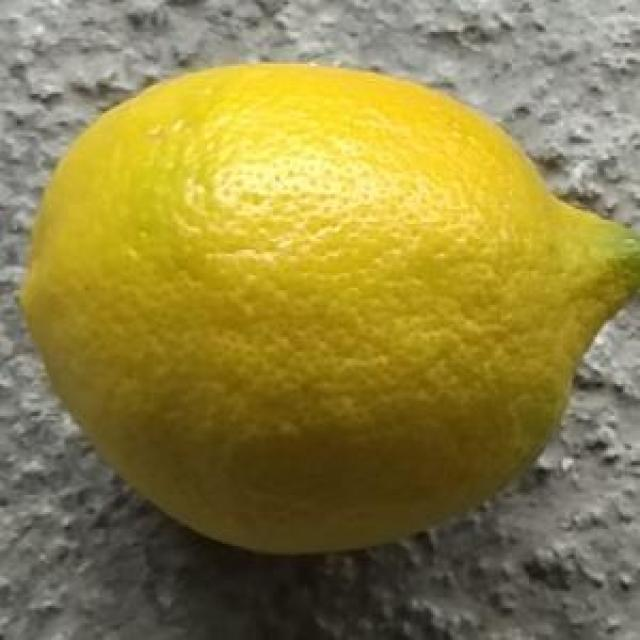lemon: (20, 60, 640, 558)
